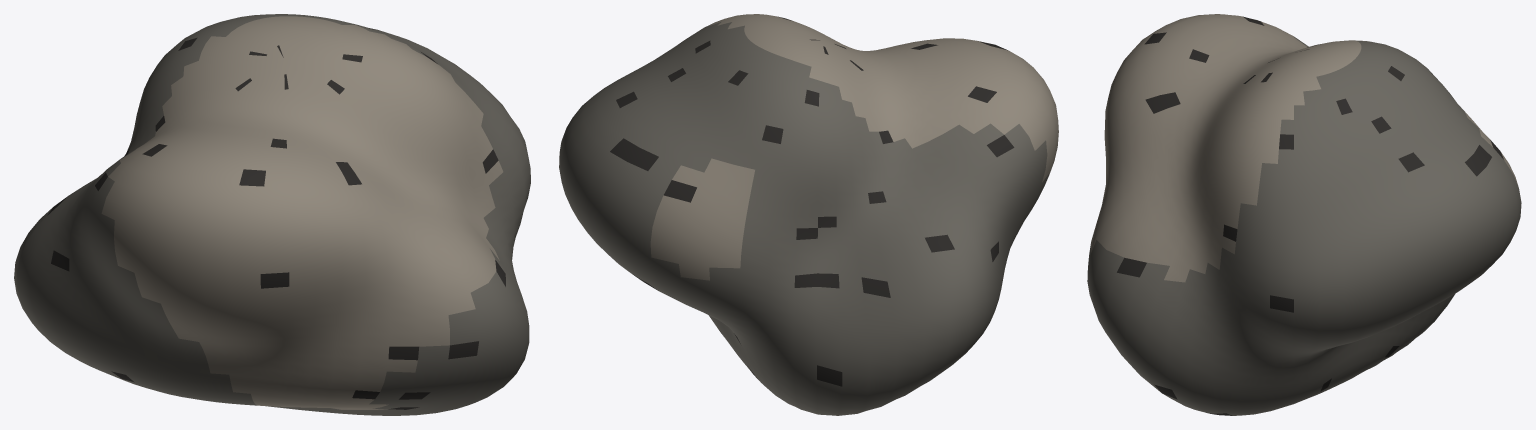
Rendered from Stone_08_Lumpy.fbx.
The picture shows the model from 3 angles, left to right: view 1: azimuth 30°, elevation 25°; view 2: azimuth 150°, elevation 25°; view 3: azimuth 270°, elevation 25°; orthographic projection. The views are drawn at different scales.
Parts seen in each view (by area): view 1: Stone_08_Lumpy; view 2: Stone_08_Lumpy; view 3: Stone_08_Lumpy.
Boxes of the visible parts, x1,y1,x2,y2 form: Stone_08_Lumpy: (14, 14, 530, 415); Stone_08_Lumpy: (559, 14, 1058, 415); Stone_08_Lumpy: (1087, 14, 1521, 415).
Size of the model in its own units: 0.0425 by 0.0324 by 0.0386.
